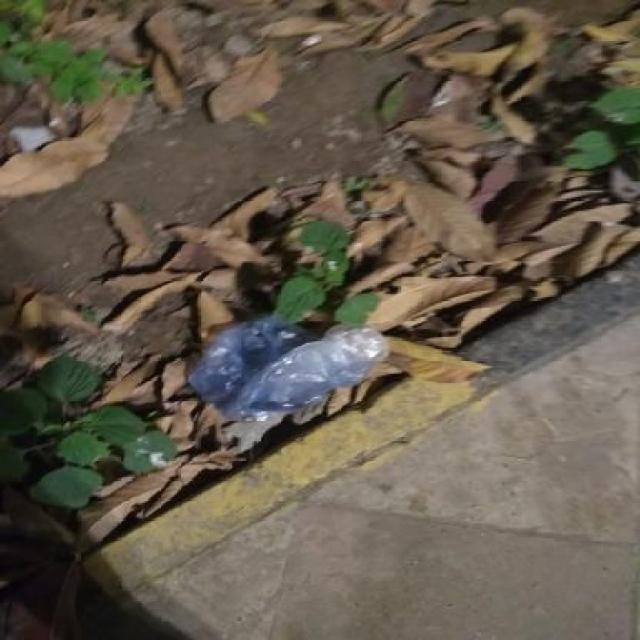garbage: (0, 1, 640, 486)
